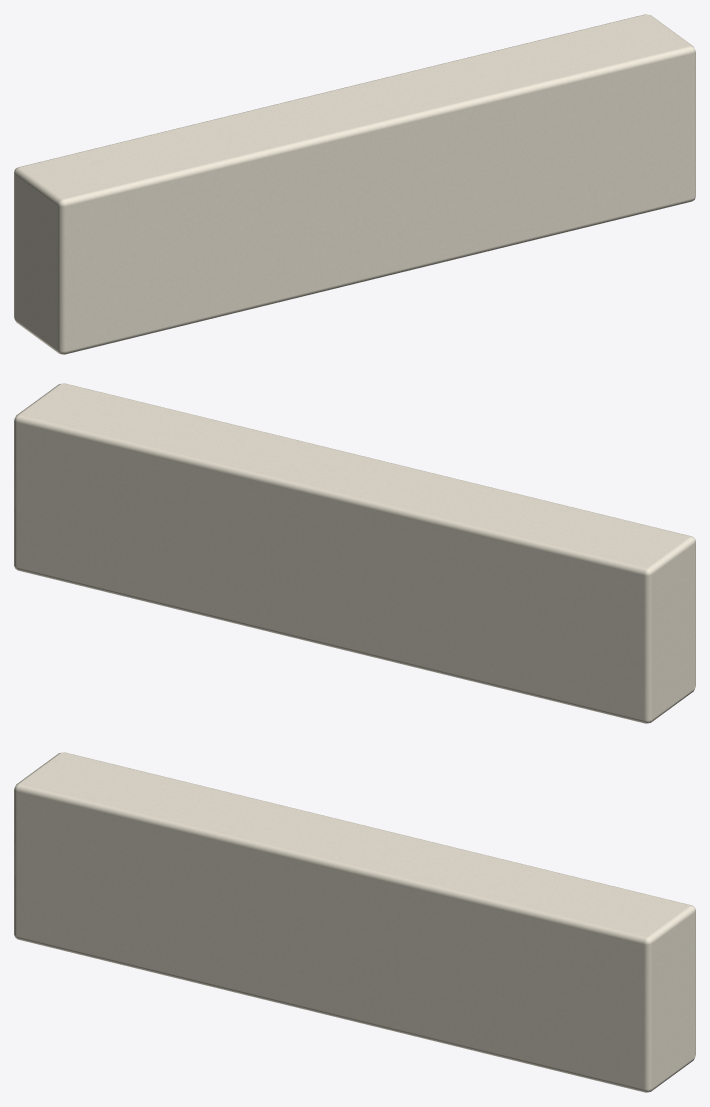
Rendered from ceiling-fascia.glb.
The picture shows the model from 3 angles, top to bottom: view 1: azimuth 30°, elevation 25°; view 2: azimuth 150°, elevation 25°; view 3: azimuth 330°, elevation 25°; orthographic projection.
Visible parts, largest first — view 1: fascia_panel; view 2: fascia_panel; view 3: fascia_panel.
Part boxes in pixels (box(x1,y1,x2,y2)): fascia_panel: box(14, 14, 695, 354); fascia_panel: box(14, 383, 695, 723); fascia_panel: box(14, 752, 695, 1092).
Bounding box in the file's own units: 3 × 0.7 × 0.4.
Materials: 1 (1 with a texture image).
